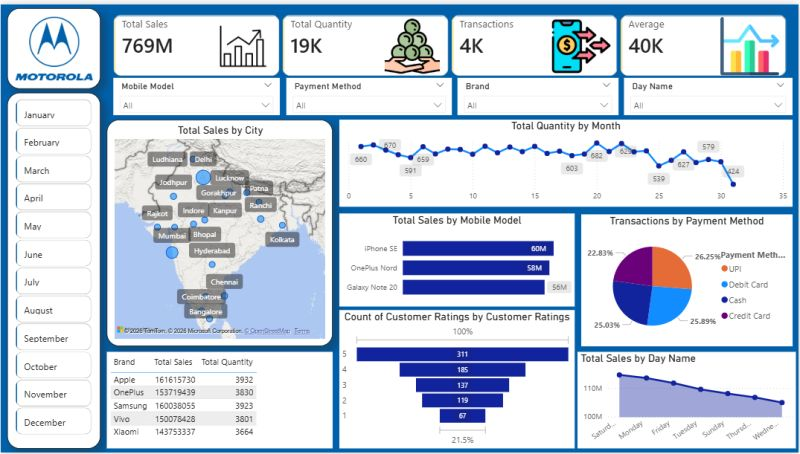

What the dashboard file says about the page in this screenshot:
{"tool":"powerbi","page":{"name":"Page 1","canvas":[1280,720],"ordinal":0},"visuals":[{"type":"shape","box":[10.4,6,149.3,129.9],"z":0},{"type":"image","box":[16.4,9,138.8,123.9],"z":1000},{"type":"shape","box":[10.4,141.8,149.3,571.6],"z":2000},{"type":"advancedSlicerVisual","fields":{"Values":["Sales_Data.Date.Variation.Date Hierarchy.Month"]},"box":[19.4,147.8,131.3,556.7],"z":3000},{"type":"cardVisual","fields":{"Data":["Sales_Data.Total Sales","Sales_Data.Total Quantity","Sales_Data.Transactions","Sales_Data.Average"]},"box":[164.2,0,1116.4,132.8],"z":3002},{"type":"map","fields":{"Category":["Sales_Data.City"],"Size":["Sales_Data.Total Sales"]},"box":[170.1,185.1,362.7,364.2],"z":3003},{"type":"lineChart","title":"Total Quantity by Month","fields":{"Y":["Sales_Data.Total Quantity"],"Category":["Sales_Data.Date.Variation.Date Hierarchy.Month","Sales_Data.Date.Variation.Date Hierarchy.Day"]},"box":[543.3,185.1,726.9,140.3],"z":3004},{"type":"barChart","title":"Total Sales by Mobile Model","fields":{"Category":["Sales_Data.Mobile Model"],"Y":["Sales_Data.Total Sales"]},"box":[543.3,335.8,377.6,149.3],"z":3005},{"type":"pieChart","title":"Transactions by Payment Method","fields":{"Category":["Sales_Data.Payment Method"],"Y":["Sales_Data.Transactions"]},"box":[931.3,337.3,338.8,211.9],"z":3006},{"type":"funnel","title":"Count of Customer Ratings by Customer Ratings","fields":{"Category":["Sales_Data.Customer Ratings"],"Y":["CountNonNull(Sales_Data.Customer Ratings)"]},"box":[543.3,491,377.6,222.4],"z":3007},{"type":"areaChart","fields":{"Category":["Sales_Data.Day Name"],"Y":["Sales_Data.Total Sales"]},"box":[925.4,558.2,350.7,155.2],"z":3008},{"type":"tableEx","fields":{"Values":["Sales_Data.Brand","Sales_Data.Total Sales","Sales_Data.Total Quantity"]},"box":[170.1,558.2,362.7,155.2],"z":3009},{"type":"slicer","fields":{"Values":["Sales_Data.Mobile Model"]},"box":[180.6,117.9,267.2,59.7],"z":3010},{"type":"slicer","fields":{"Values":["Sales_Data.Brand"]},"box":[732.8,117.9,258.2,59.7],"z":3011},{"type":"slicer","fields":{"Values":["Sales_Data.Payment Method"]},"box":[458.2,117.9,265.7,59.7],"z":3012},{"type":"slicer","fields":{"Values":["Sales_Data.Day Name"]},"box":[1000,117.9,270.1,59.7],"z":3013}]}

Visuals, with their boxes in screenshot pixels (x1, y1, x2, y2), scaled from the page's 1280x720 canvas onto the 800x454 screenshot:
shape: Rect(6, 4, 100, 86)
image: Rect(10, 6, 97, 84)
shape: Rect(6, 89, 100, 450)
advancedSlicerVisual - Sales_Data.Date.Variation.Date Hierarchy.Month: Rect(12, 93, 94, 444)
cardVisual - Sales_Data.Total Sales x Sales_Data.Total Quantity: Rect(103, 0, 799, 84)
map - Sales_Data.City x Sales_Data.Total Sales: Rect(106, 117, 333, 346)
"Total Quantity by Month" lineChart: Rect(340, 117, 794, 205)
"Total Sales by Mobile Model" barChart: Rect(340, 212, 576, 306)
"Transactions by Payment Method" pieChart: Rect(582, 213, 794, 346)
"Count of Customer Ratings by Customer Ratings" funnel: Rect(340, 310, 576, 450)
areaChart - Sales_Data.Day Name x Sales_Data.Total Sales: Rect(578, 352, 798, 450)
tableEx - Sales_Data.Brand x Sales_Data.Total Sales: Rect(106, 352, 333, 450)
slicer - Sales_Data.Mobile Model: Rect(113, 74, 280, 112)
slicer - Sales_Data.Brand: Rect(458, 74, 619, 112)
slicer - Sales_Data.Payment Method: Rect(286, 74, 452, 112)
slicer - Sales_Data.Day Name: Rect(625, 74, 794, 112)
